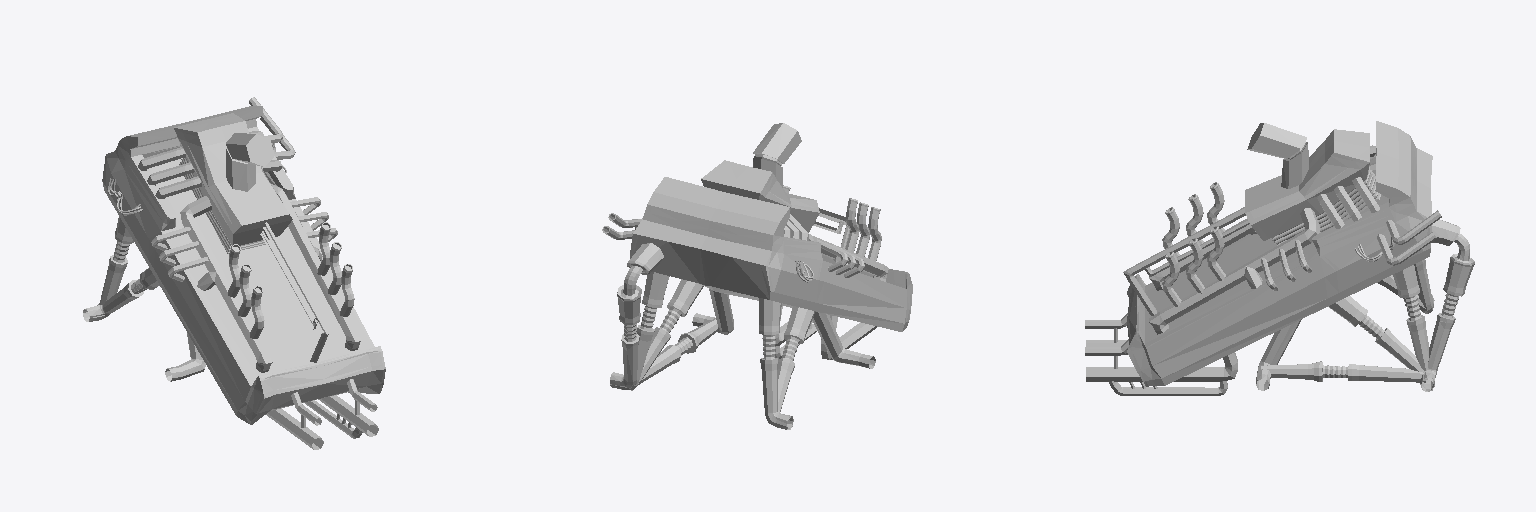
The model's file is chassisWires-lvl2.obj.
The picture shows the model from 3 angles: view 1: azimuth 30°, elevation 25°; view 2: azimuth 150°, elevation 25°; view 3: azimuth 270°, elevation 25°; orthographic projection.
Visible parts, largest first — view 1: Chassis-Lvl1-Base_Chassis-Lvl1_Cube.001, Chassis-Lvl2-Addons_Chassis-Lvl1_Cube.006, Chassis-Lvl3-Addons_Chassis-Lvl1_Cube.003; view 2: Chassis-Lvl1-Base_Chassis-Lvl1_Cube.001, Chassis-Lvl3-Addons_Chassis-Lvl1_Cube.003, Chassis-Lvl2-Addons_Chassis-Lvl1_Cube.006; view 3: Chassis-Lvl1-Base_Chassis-Lvl1_Cube.001, Chassis-Lvl3-Addons_Chassis-Lvl1_Cube.003, Chassis-Lvl2-Addons_Chassis-Lvl1_Cube.006.
Part boxes in pixels (x1,y1,x2,y2): Chassis-Lvl1-Base_Chassis-Lvl1_Cube.001: (83, 106, 385, 449); Chassis-Lvl2-Addons_Chassis-Lvl1_Cube.006: (83, 197, 377, 427); Chassis-Lvl3-Addons_Chassis-Lvl1_Cube.003: (107, 97, 362, 438); Chassis-Lvl1-Base_Chassis-Lvl1_Cube.001: (610, 123, 912, 429); Chassis-Lvl3-Addons_Chassis-Lvl1_Cube.003: (602, 208, 849, 387); Chassis-Lvl2-Addons_Chassis-Lvl1_Cube.006: (638, 185, 881, 428); Chassis-Lvl1-Base_Chassis-Lvl1_Cube.001: (1086, 121, 1434, 391); Chassis-Lvl3-Addons_Chassis-Lvl1_Cube.003: (1109, 207, 1474, 395); Chassis-Lvl2-Addons_Chassis-Lvl1_Cube.006: (1085, 182, 1433, 390).
Size of the model in its own units: 3.75 by 4.84 by 6.62.